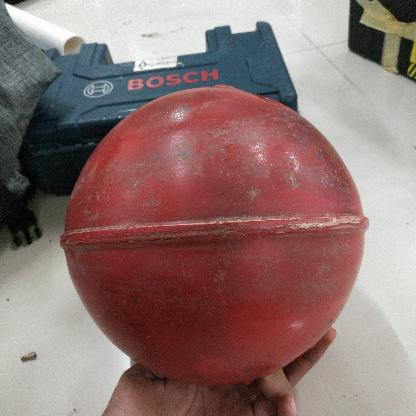red_buoy: (58, 84, 368, 387)
